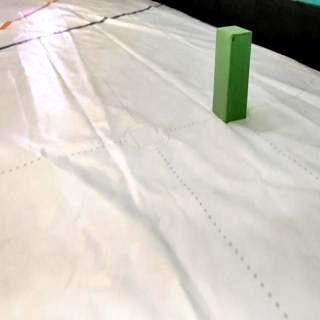greenbox: (212, 23, 252, 124)
